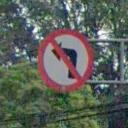NoVirarEsquerda: (35, 26, 96, 94)
